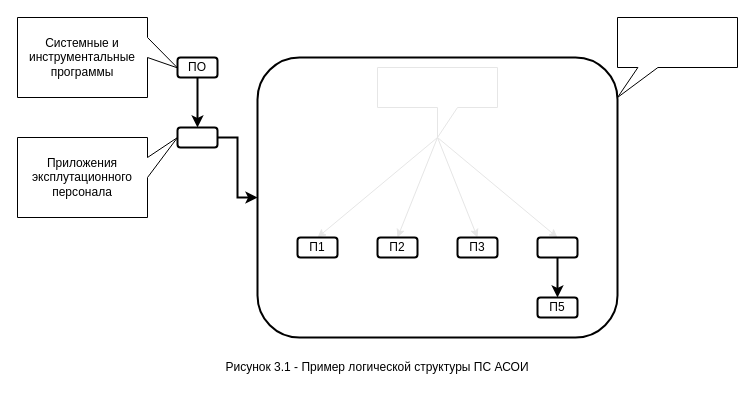
The diagram is 755 pixels wide and 395 high, and some of its shapes have lost their labels. The shapes that lost their labels are listed below. From the top down, each one's centre as x and y in pixels, then its label:
At point (677, 57): "Функциональная модель ОА".
At point (437, 102): "Вариант 5".
At point (197, 137): "П6".
At point (557, 247): "П4".
